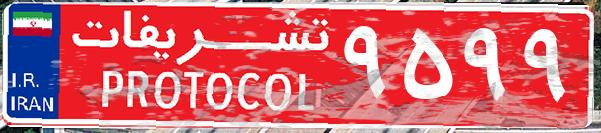5: (400, 20, 460, 115)
9: (340, 20, 400, 115), (460, 20, 520, 115), (520, 20, 580, 115)
تشریفات: (60, 8, 340, 125)
